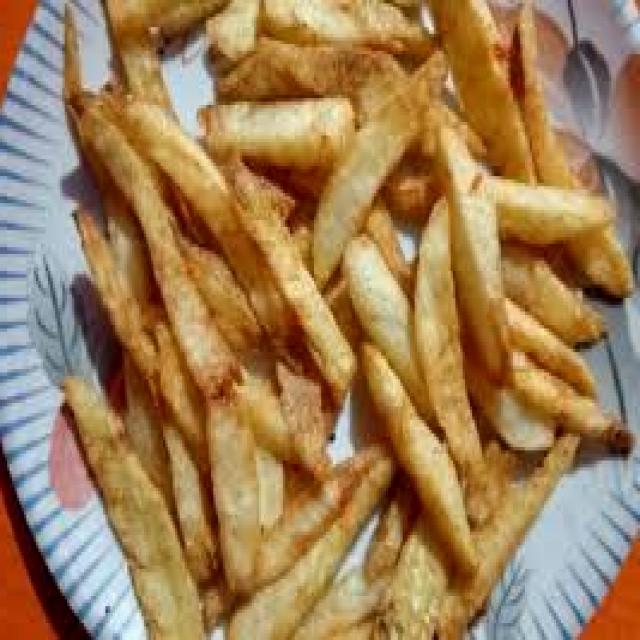fries: (78, 0, 625, 640)
